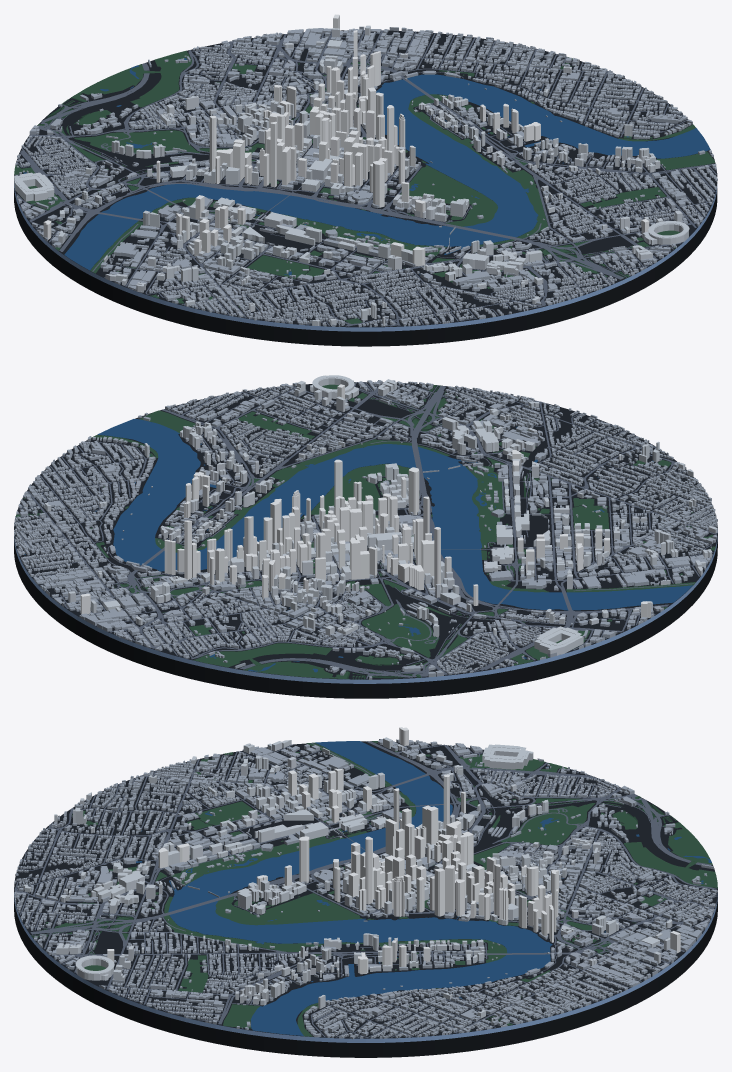
The model's file is ink.glb.
The picture shows the model from 3 angles, top to bottom: view 1: azimuth 30°, elevation 25°; view 2: azimuth 150°, elevation 25°; view 3: azimuth 270°, elevation 25°; orthographic projection.
Visible parts, largest first — view 1: land, water, roads, park, slab, buildings 15/30312/18987 low, buildings 15/30313/18987 low, buildings 15/30314/18985 low, buildings 15/30311/18987 low, buildings 15/30312/18986 tall, buildings 15/30311/18986 low, buildings 15/30313/18984 low (+26 smaller); view 2: land, roads, water, park, slab, buildings 15/30312/18987 low, buildings 15/30313/18987 low, buildings 15/30314/18985 low, buildings 15/30311/18986 low, buildings 15/30311/18987 low, buildings 15/30312/18985 tall, buildings 15/30312/18985 low (+27 smaller); view 3: land, water, roads, park, slab, buildings 15/30312/18987 low, buildings 15/30314/18985 low, buildings 15/30313/18987 low, buildings 15/30311/18987 low, buildings 15/30313/18984 low, buildings 15/30313/18985 tall, buildings 15/30311/18986 low (+25 smaller).
Part boxes in pixels (<box>): land: <box>14,30,717,327</box>; water: <box>23,58,710,275</box>; roads: <box>15,30,716,326</box>; park: <box>14,50,715,323</box>; slab: <box>14,188,717,346</box>; buildings 15/30312/18987 low: <box>302,226,550,326</box>; buildings 15/30313/18987 low: <box>478,181,680,291</box>; buildings 15/30314/18985 low: <box>433,34,640,108</box>; buildings 15/30311/18987 low: <box>157,269,377,327</box>; buildings 15/30312/18986 tall: <box>238,107,425,224</box>; buildings 15/30311/18986 low: <box>38,197,292,294</box>; buildings 15/30313/18984 low: <box>217,26,428,82</box>; land: <box>14,382,717,679</box>; roads: <box>15,382,716,678</box>; water: <box>24,419,692,672</box>; park: <box>15,382,715,679</box>; slab: <box>14,534,717,698</box>; buildings 15/30312/18987 low: <box>423,405,661,507</box>; buildings 15/30313/18987 low: <box>246,380,504,451</box>; buildings 15/30314/18985 low: <box>14,475,132,573</box>; buildings 15/30311/18986 low: <box>490,514,712,623</box>; buildings 15/30311/18987 low: <box>592,451,717,548</box>; buildings 15/30312/18985 tall: <box>262,527,451,599</box>; buildings 15/30312/18985 low: <box>223,547,452,653</box>; land: <box>14,741,717,1038</box>; water: <box>79,741,711,1035</box>; roads: <box>14,741,716,1037</box>; park: <box>32,741,717,1036</box>; slab: <box>14,897,717,1057</box>; buildings 15/30312/18987 low: <box>38,817,228,901</box>; buildings 15/30314/18985 low: <box>418,980,608,1037</box>; buildings 15/30313/18987 low: <box>38,898,228,982</box>; buildings 15/30311/18987 low: <box>57,753,228,820</box>; buildings 15/30313/18984 low: <box>609,899,715,981</box>; buildings 15/30313/18985 tall: <box>419,862,558,962</box>; buildings 15/30311/18986 low: <box>228,739,418,820</box>.
Size of the model in its own units: 0.6007 by 0.0787 by 0.6.
